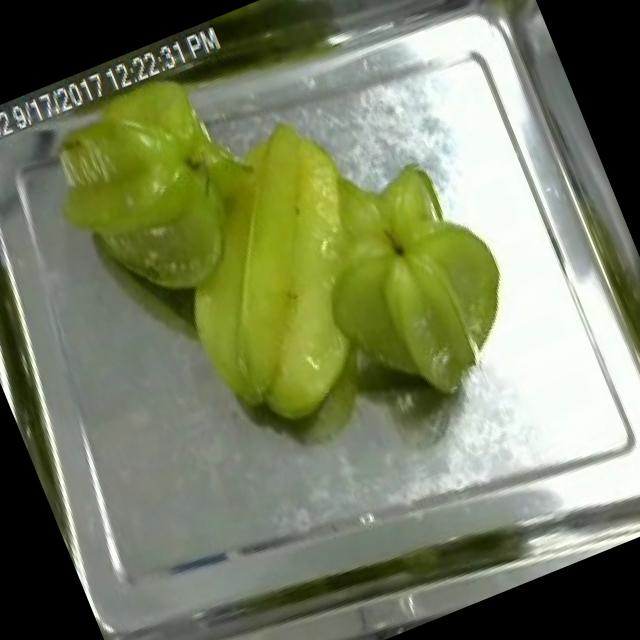fruit: (107, 41, 558, 488), (6, 47, 286, 349)
